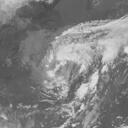cyclone: (44, 20, 114, 98)
